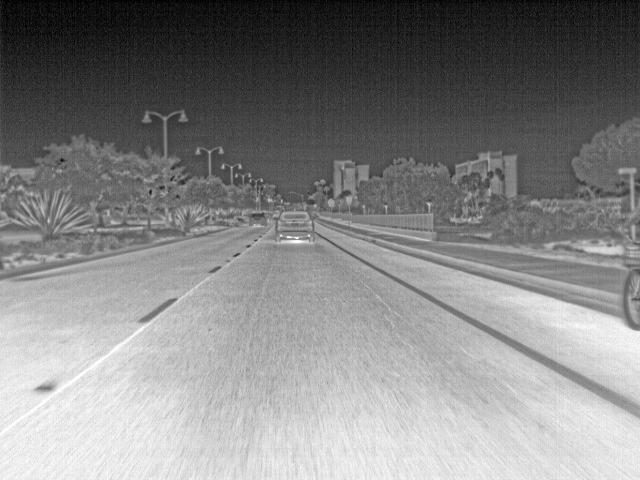car: (275, 210, 314, 243), (247, 213, 269, 227), (271, 210, 279, 219)
